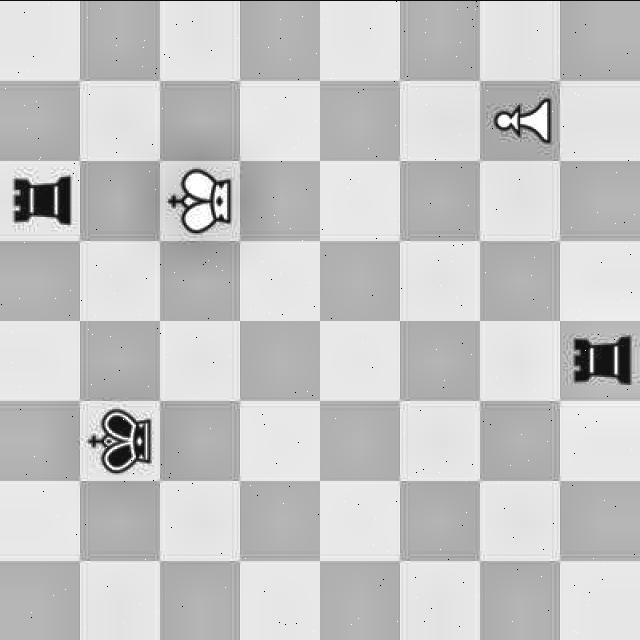black king: (76, 400, 156, 481)
black rook: (560, 323, 636, 392), (3, 165, 77, 234)
white king: (157, 162, 239, 236)
white pawn: (480, 78, 560, 162)
